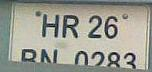2: (87, 14, 101, 38)
6: (103, 14, 118, 38)
H: (41, 12, 59, 38)
R: (61, 12, 79, 38)
